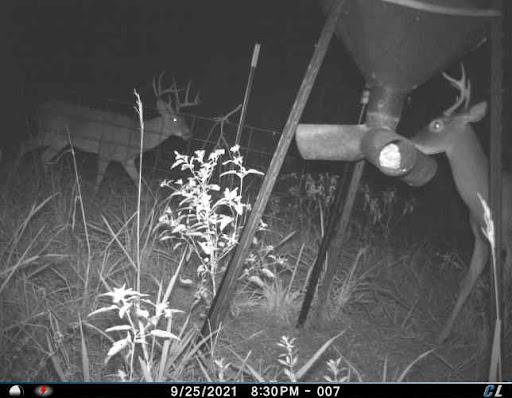Deer: (407, 63, 512, 353), (18, 71, 206, 194)
